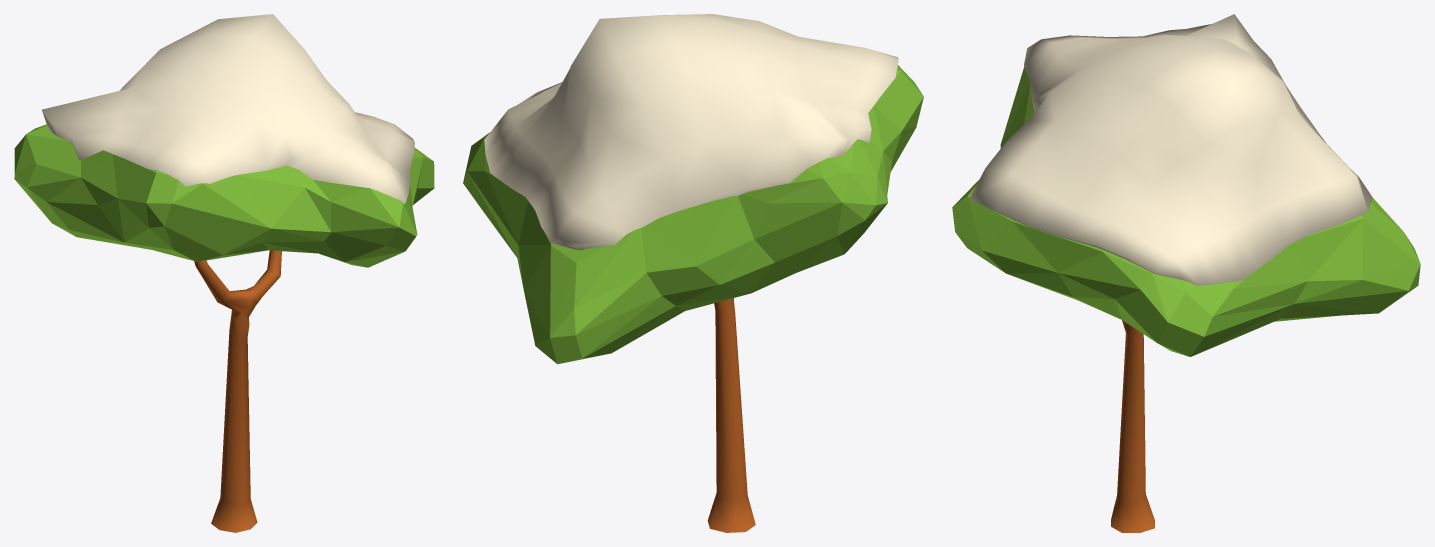
Rendered from Tree_26_Winter.fbx.
3 renders of one model, left to right at view 1: azimuth 30°, elevation 25°; view 2: azimuth 150°, elevation 25°; view 3: azimuth 270°, elevation 25°, orthographic. The views are drawn at different scales.
Visible parts, largest first — view 1: Tree_26_p2_Winter, Tree_26_p1_Winter; view 2: Tree_26_p2_Winter, Tree_26_p1_Winter; view 3: Tree_26_p2_Winter, Tree_26_p1_Winter.
Boxes of the visible parts, bbox=[...] form: Tree_26_p2_Winter: bbox=[14, 14, 434, 267]; Tree_26_p1_Winter: bbox=[194, 250, 281, 532]; Tree_26_p2_Winter: bbox=[463, 14, 923, 364]; Tree_26_p1_Winter: bbox=[707, 298, 755, 532]; Tree_26_p2_Winter: bbox=[952, 14, 1420, 356]; Tree_26_p1_Winter: bbox=[1111, 320, 1154, 532].
Bounding box in the file's own units: 527 × 594 × 520.
